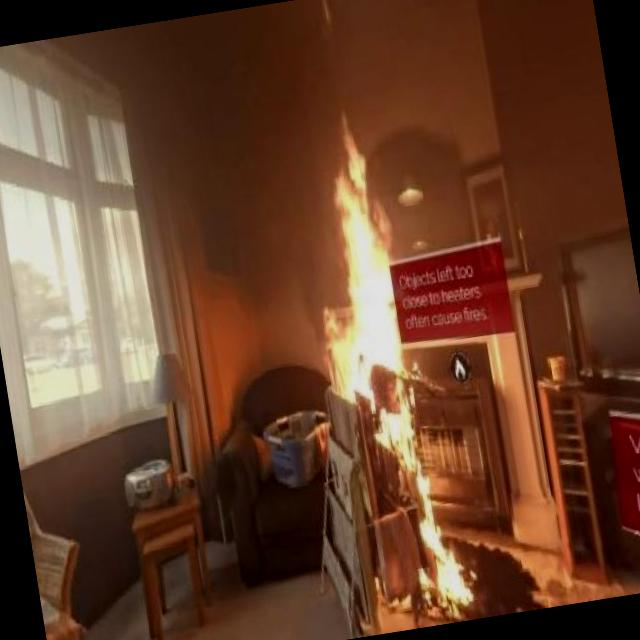fire: (283, 106, 410, 387)
